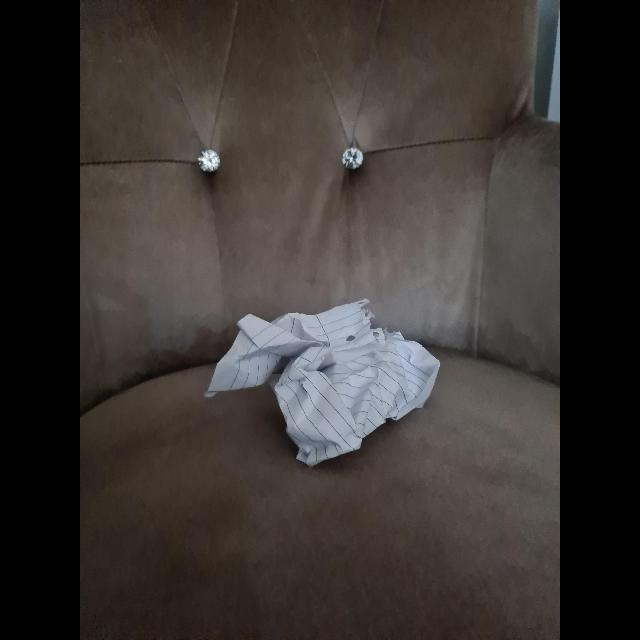trash: (204, 296, 450, 468)
